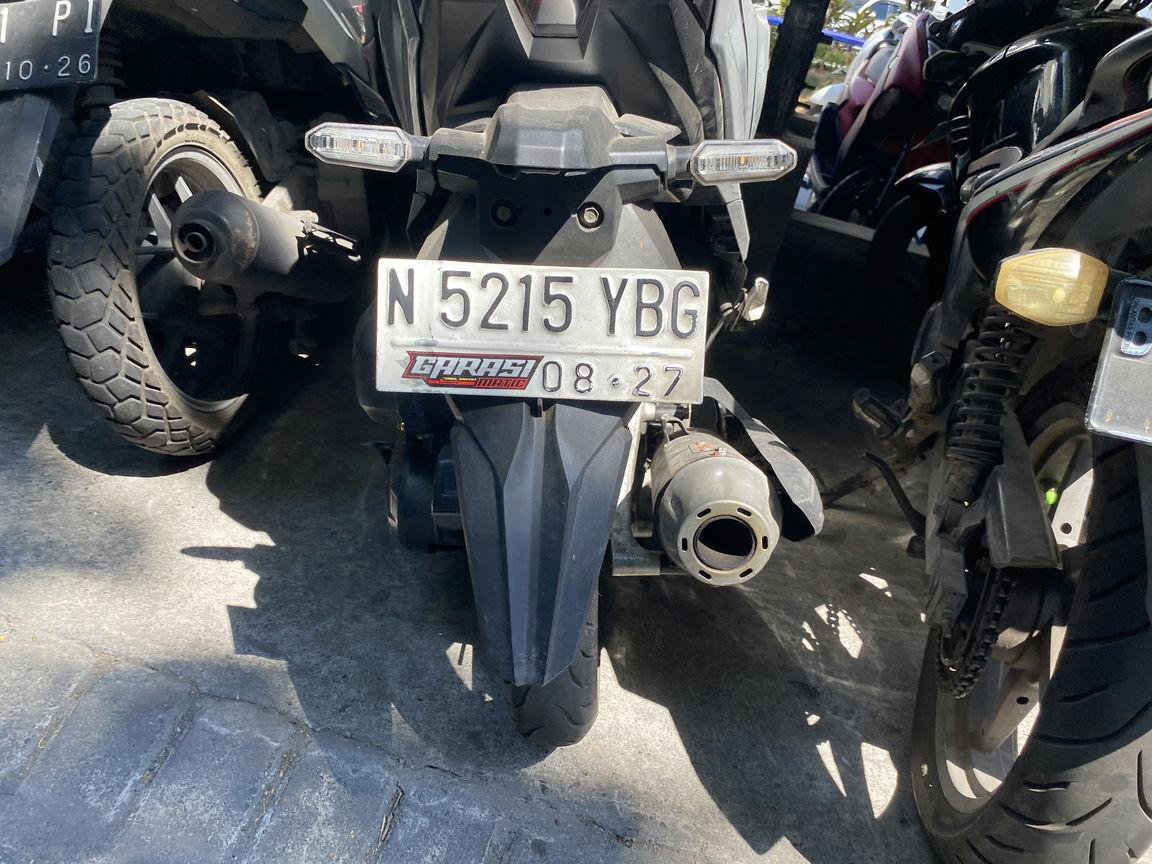plat: (376, 259, 709, 405)
